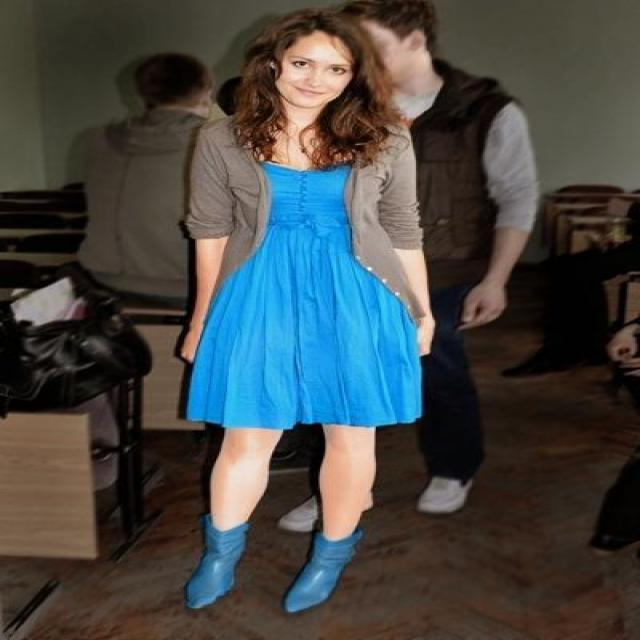dress: (187, 166, 421, 429)
jacket: (188, 117, 422, 290)
shoe: (189, 525, 360, 611)
